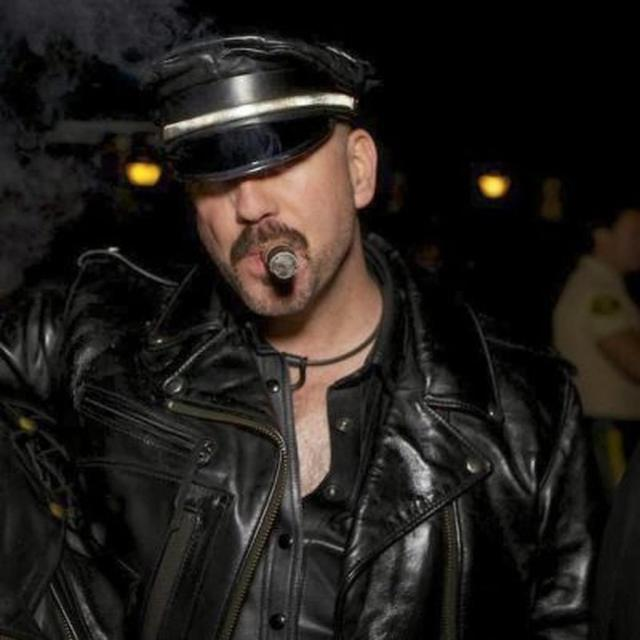smoking: (138, 31, 448, 339)
